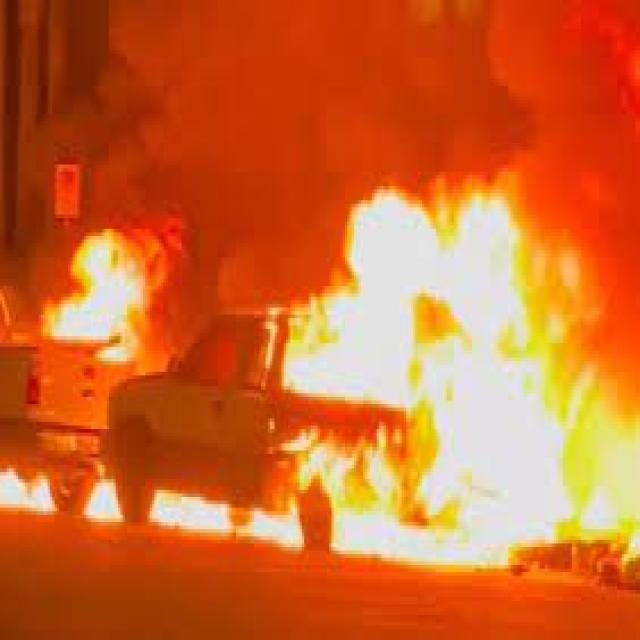Fire: (288, 207, 600, 598)
Smoke: (150, 0, 640, 269)
